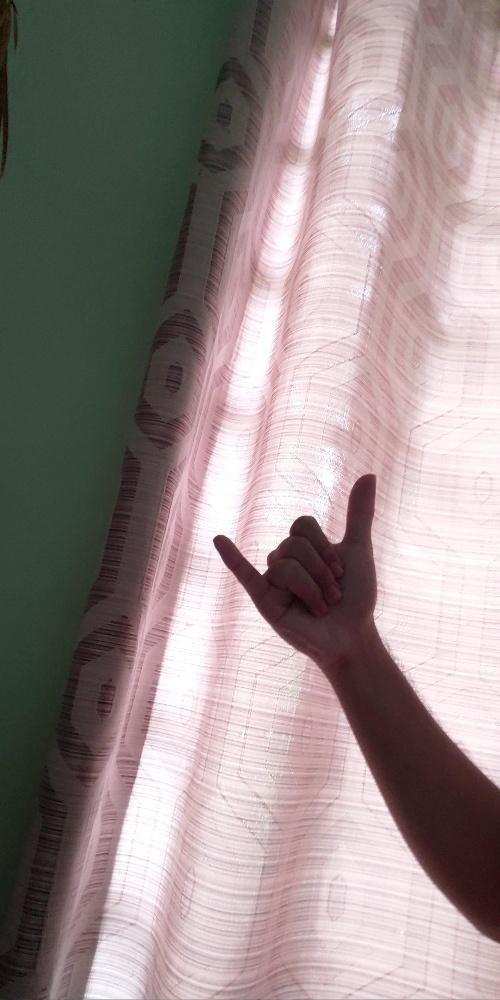y: (211, 470, 378, 658)
